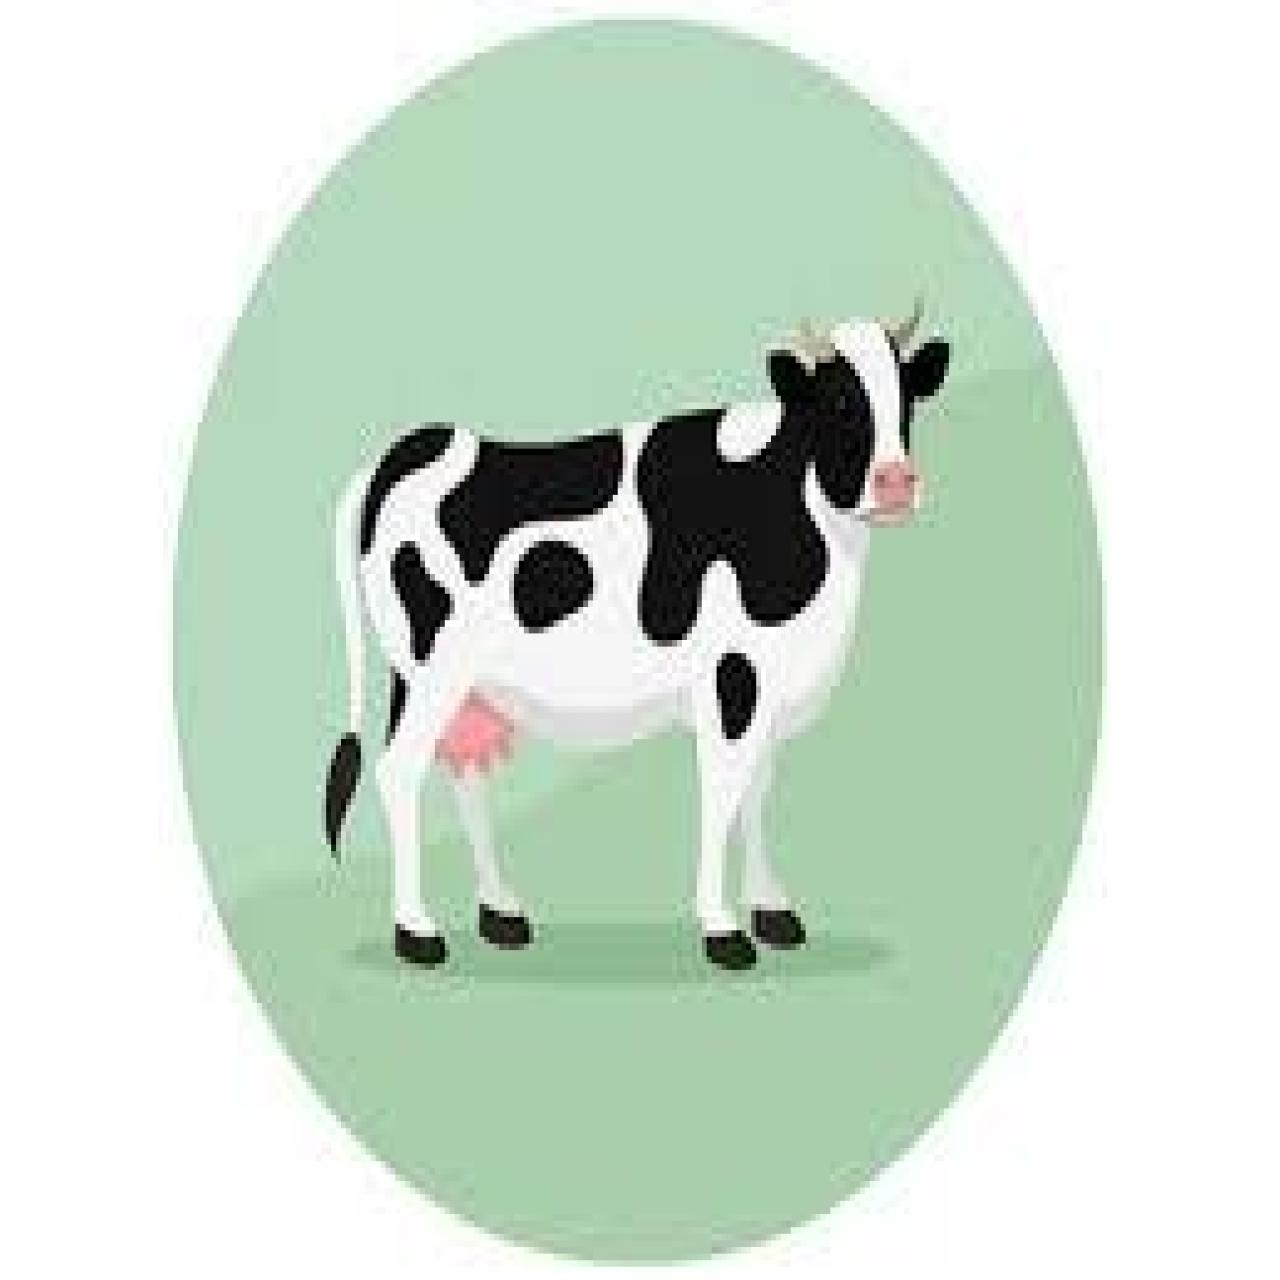cow: (319, 284, 956, 976)
